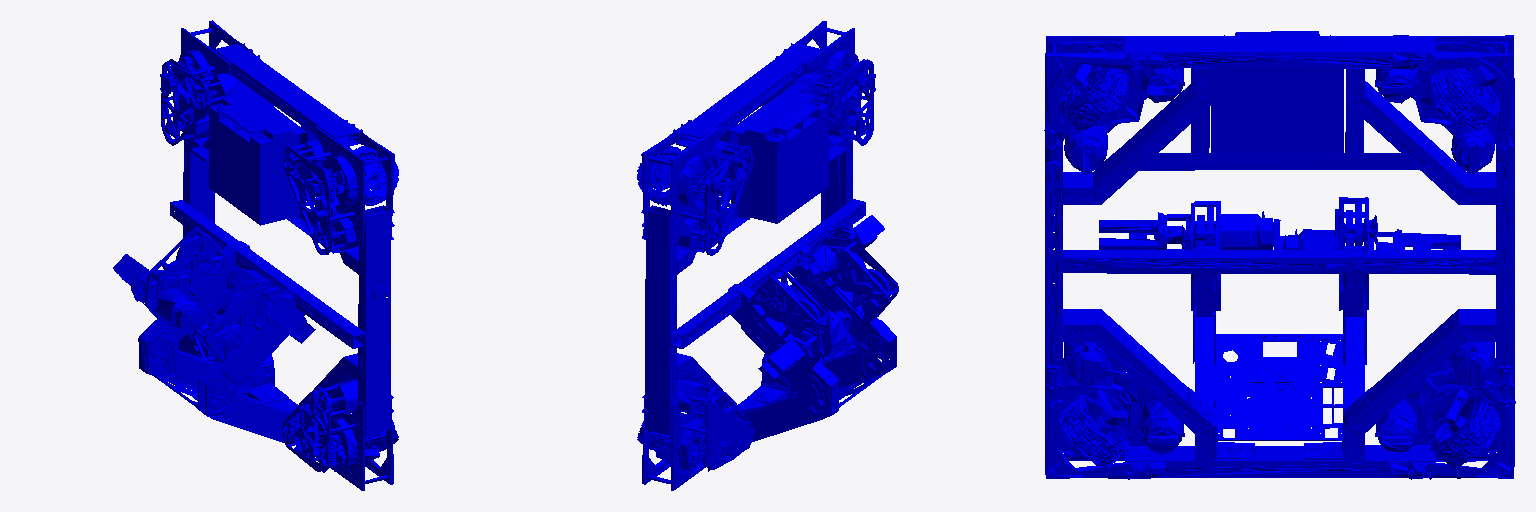
URDF robot description (camera_2):
<?xml version="1.0"?>
<robot name="camera_2">

	<link name="base_link_2">
		<visual>
			<origin xyz="0 0 0" rpy="0 0 0" />
			<geometry>
				<mesh filename="package://robot_2024_description/meshes/base_link.stl"/>
			</geometry>
			<material name="Red">
				<color rgba="0 0 1 0.1"/>
			</material>
      	</visual>
   
		<collision>
			<origin xyz="0 0 0" rpy="0 0 0"/>
			<geometry>
				<mesh filename="package://robot_2024_description/meshes/base_link.stl"/>
			</geometry>
		</collision>
	</link>
  
	<joint name="b2c2" type="fixed">
		<parent link="camera_2"/>
		<child link="base_link_2"/>
		<origin xyz="0.191 0.283 -0.299" rpy="0.0 -1.57 0.0"/>
	</joint>

	<link name="camera_2"/>

	<link name="camera_2_plane"/>

	<joint name="camera2camera" type="fixed">
		<parent link="camera_2"/>
		<child link="camera_2_plane"/>
		<origin xyz="0 0 0" rpy="0 0 3.14"/>
	</joint>

</robot>

--- Facts derived from the render (not from the file) ---
3 views of the same robot in one strip: view 1: azimuth 30°, elevation 25°; view 2: azimuth 150°, elevation 25°; view 3: azimuth 270°, elevation 25° (orthographic).
Model camera_2 with 3 links and 2 joints (2 fixed), rooted at camera_2, posed every joint at zero.
Links seen in each view (by area): view 1: base_link_2; view 2: base_link_2; view 3: base_link_2.
Link boxes in pixels (x1=…): base_link_2: x1=113, y1=20, x2=398, y2=490; base_link_2: x1=637, y1=21, x2=898, y2=490; base_link_2: x1=1044, y1=31, x2=1515, y2=479.
Bounding box of the posed robot: 0.2902 × 0.6098 × 0.6099 m (x, y, z).
1 mesh visuals loaded from 1 distinct referenced files (1 binary STL).
